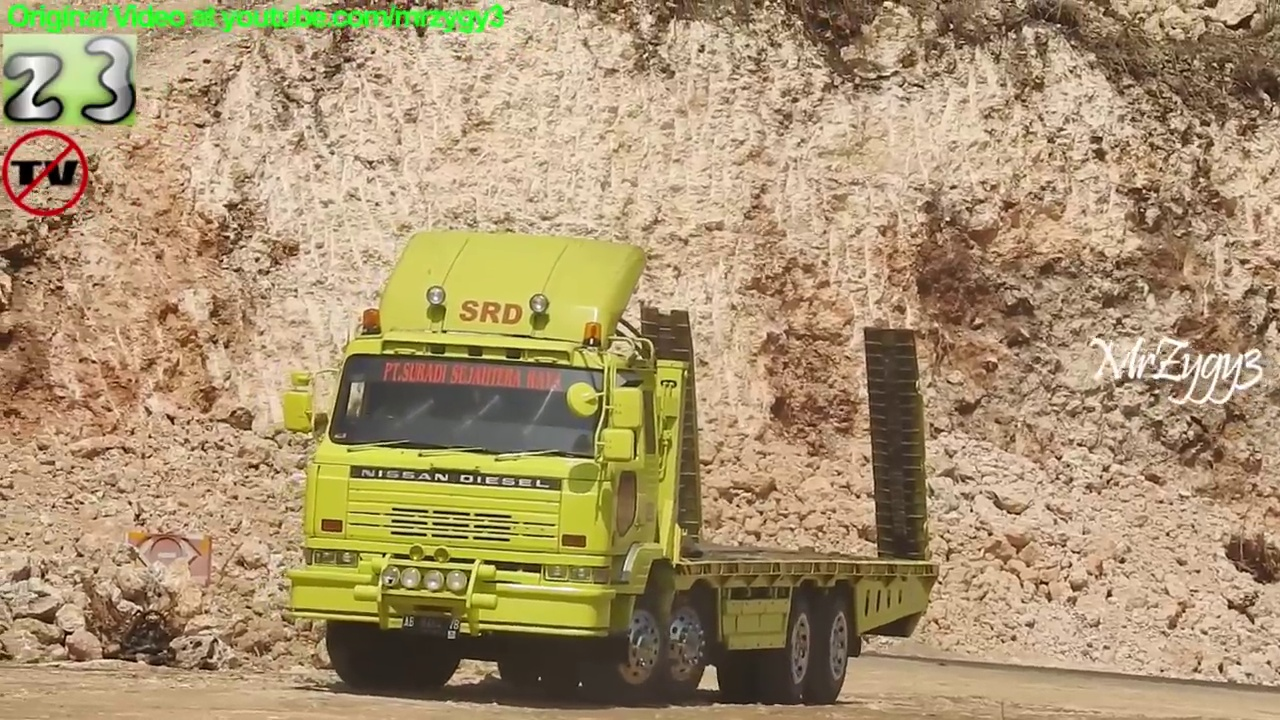truck: (275, 224, 944, 710)
